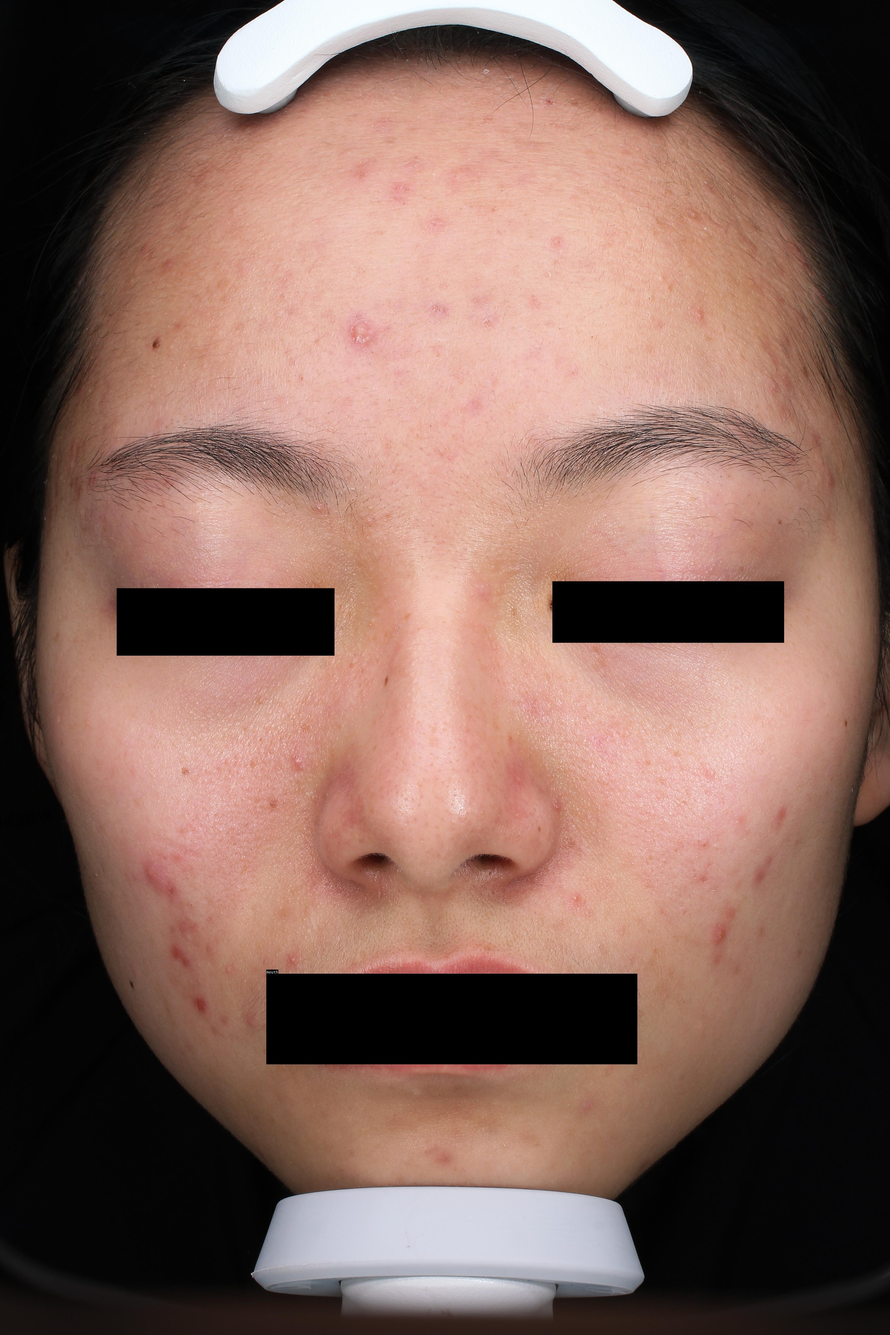atrophic_scar: (541, 320, 556, 330), (168, 886, 176, 895), (699, 875, 706, 883), (682, 909, 688, 918), (491, 208, 497, 213)
closed_comedo: (688, 210, 698, 219), (707, 769, 716, 777), (184, 934, 192, 941), (230, 206, 237, 212), (720, 325, 725, 333), (634, 146, 642, 151), (658, 276, 664, 281), (503, 1143, 507, 1147), (85, 722, 89, 725)
hypertrophic_scar: (409, 1088, 423, 1096)
melasma: (591, 644, 609, 678), (298, 721, 313, 735), (267, 796, 280, 809), (403, 612, 413, 625), (249, 755, 258, 768), (180, 767, 191, 776), (511, 605, 518, 618), (347, 661, 357, 670), (54, 630, 60, 643)
nevus: (151, 336, 163, 350), (384, 675, 390, 686), (129, 980, 135, 990), (844, 720, 849, 728), (777, 520, 782, 525), (537, 827, 542, 832)
open_comedo: (345, 150, 352, 156), (359, 266, 366, 272), (597, 944, 604, 950), (478, 947, 485, 953), (647, 295, 653, 301), (299, 375, 305, 381), (499, 188, 505, 193), (621, 233, 627, 238), (738, 215, 743, 221), (702, 843, 707, 848), (428, 423, 433, 428), (350, 497, 355, 502), (396, 626, 401, 630), (424, 1150, 428, 1155), (697, 839, 701, 844), (388, 397, 392, 402), (590, 335, 594, 339), (190, 903, 194, 907), (558, 327, 562, 330), (600, 306, 603, 309)
other: (150, 833, 206, 865)
papule: (347, 320, 375, 348), (147, 863, 164, 885), (713, 924, 728, 943), (788, 241, 803, 256), (292, 755, 306, 769), (245, 1014, 259, 1028), (819, 290, 833, 304), (448, 170, 462, 183), (171, 945, 182, 961), (552, 798, 563, 813), (692, 309, 704, 321), (552, 235, 564, 247), (579, 1099, 591, 1110), (768, 380, 778, 393), (313, 502, 326, 512), (775, 806, 785, 819), (825, 473, 834, 486), (570, 893, 580, 904), (516, 774, 525, 783), (356, 173, 366, 181), (289, 955, 297, 964), (224, 966, 233, 973), (197, 1002, 204, 1011), (130, 964, 137, 973)
